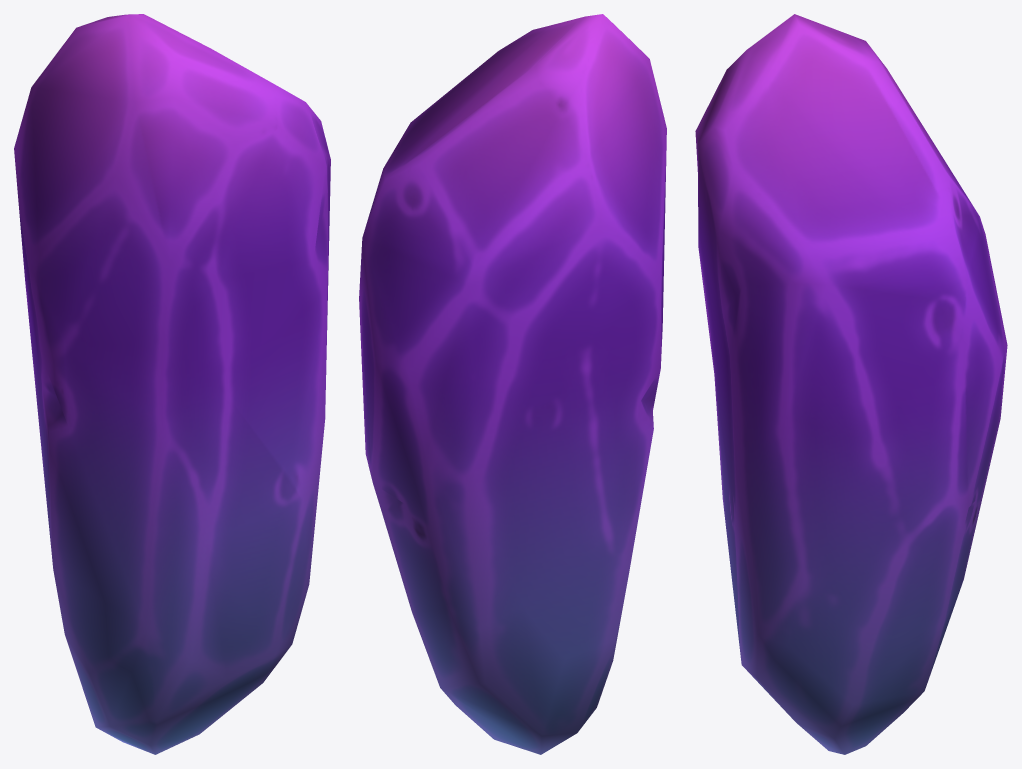
Rendered from Cristal_3.fbx.
The picture shows the model from 3 angles, left to right: view 1: azimuth 30°, elevation 25°; view 2: azimuth 150°, elevation 25°; view 3: azimuth 270°, elevation 25°; orthographic projection. The views are drawn at different scales.
Parts seen in each view (by area): view 1: LP.005; view 2: LP.005; view 3: LP.005.
Boxes of the visible parts, box(x1,y1,x2,y2) form: LP.005: box(14, 14, 330, 754); LP.005: box(359, 14, 666, 754); LP.005: box(695, 14, 1007, 754).
Bounding box in the file's own units: 140 × 355 × 143.
